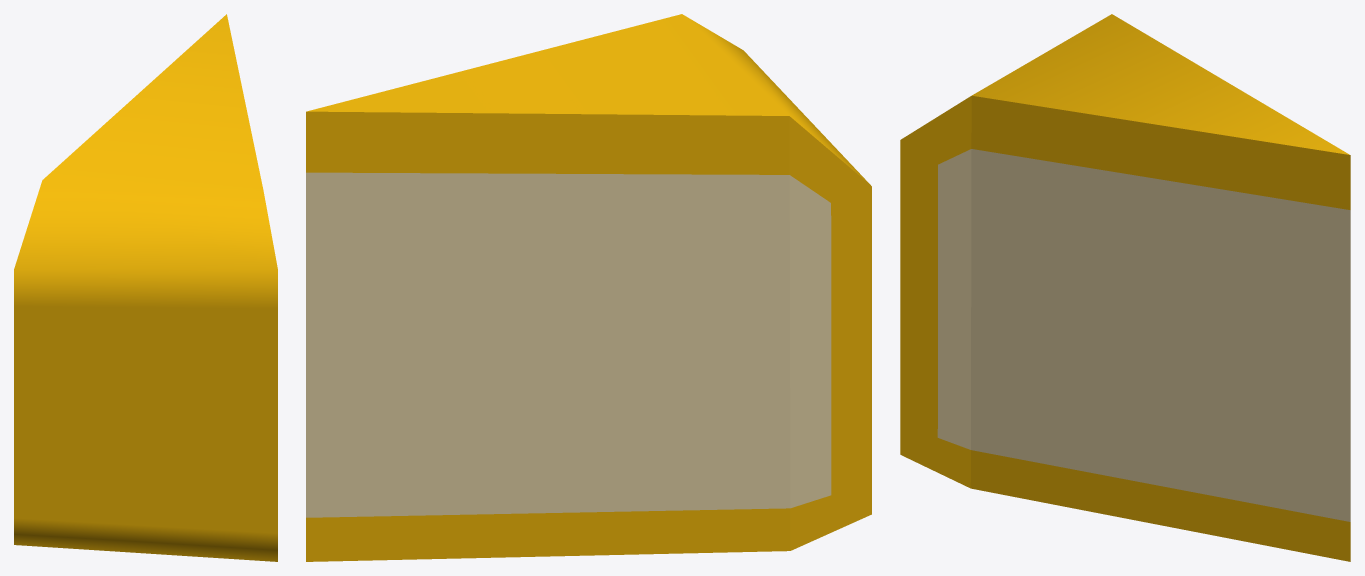
File: Cheese_C.fbx
The picture shows the model from 3 angles, left to right: view 1: azimuth 30°, elevation 25°; view 2: azimuth 150°, elevation 25°; view 3: azimuth 270°, elevation 25°; orthographic projection. The views are drawn at different scales.
Visible parts, largest first — view 1: Cheese_C; view 2: Cheese_C; view 3: Cheese_C.
Part boxes in pixels (box(x1,y1,x2,y2)): Cheese_C: box(14, 14, 277, 561); Cheese_C: box(306, 14, 871, 561); Cheese_C: box(900, 14, 1350, 561).
Bounding box in the file's own units: 13.78 × 14.48 × 14.52.
